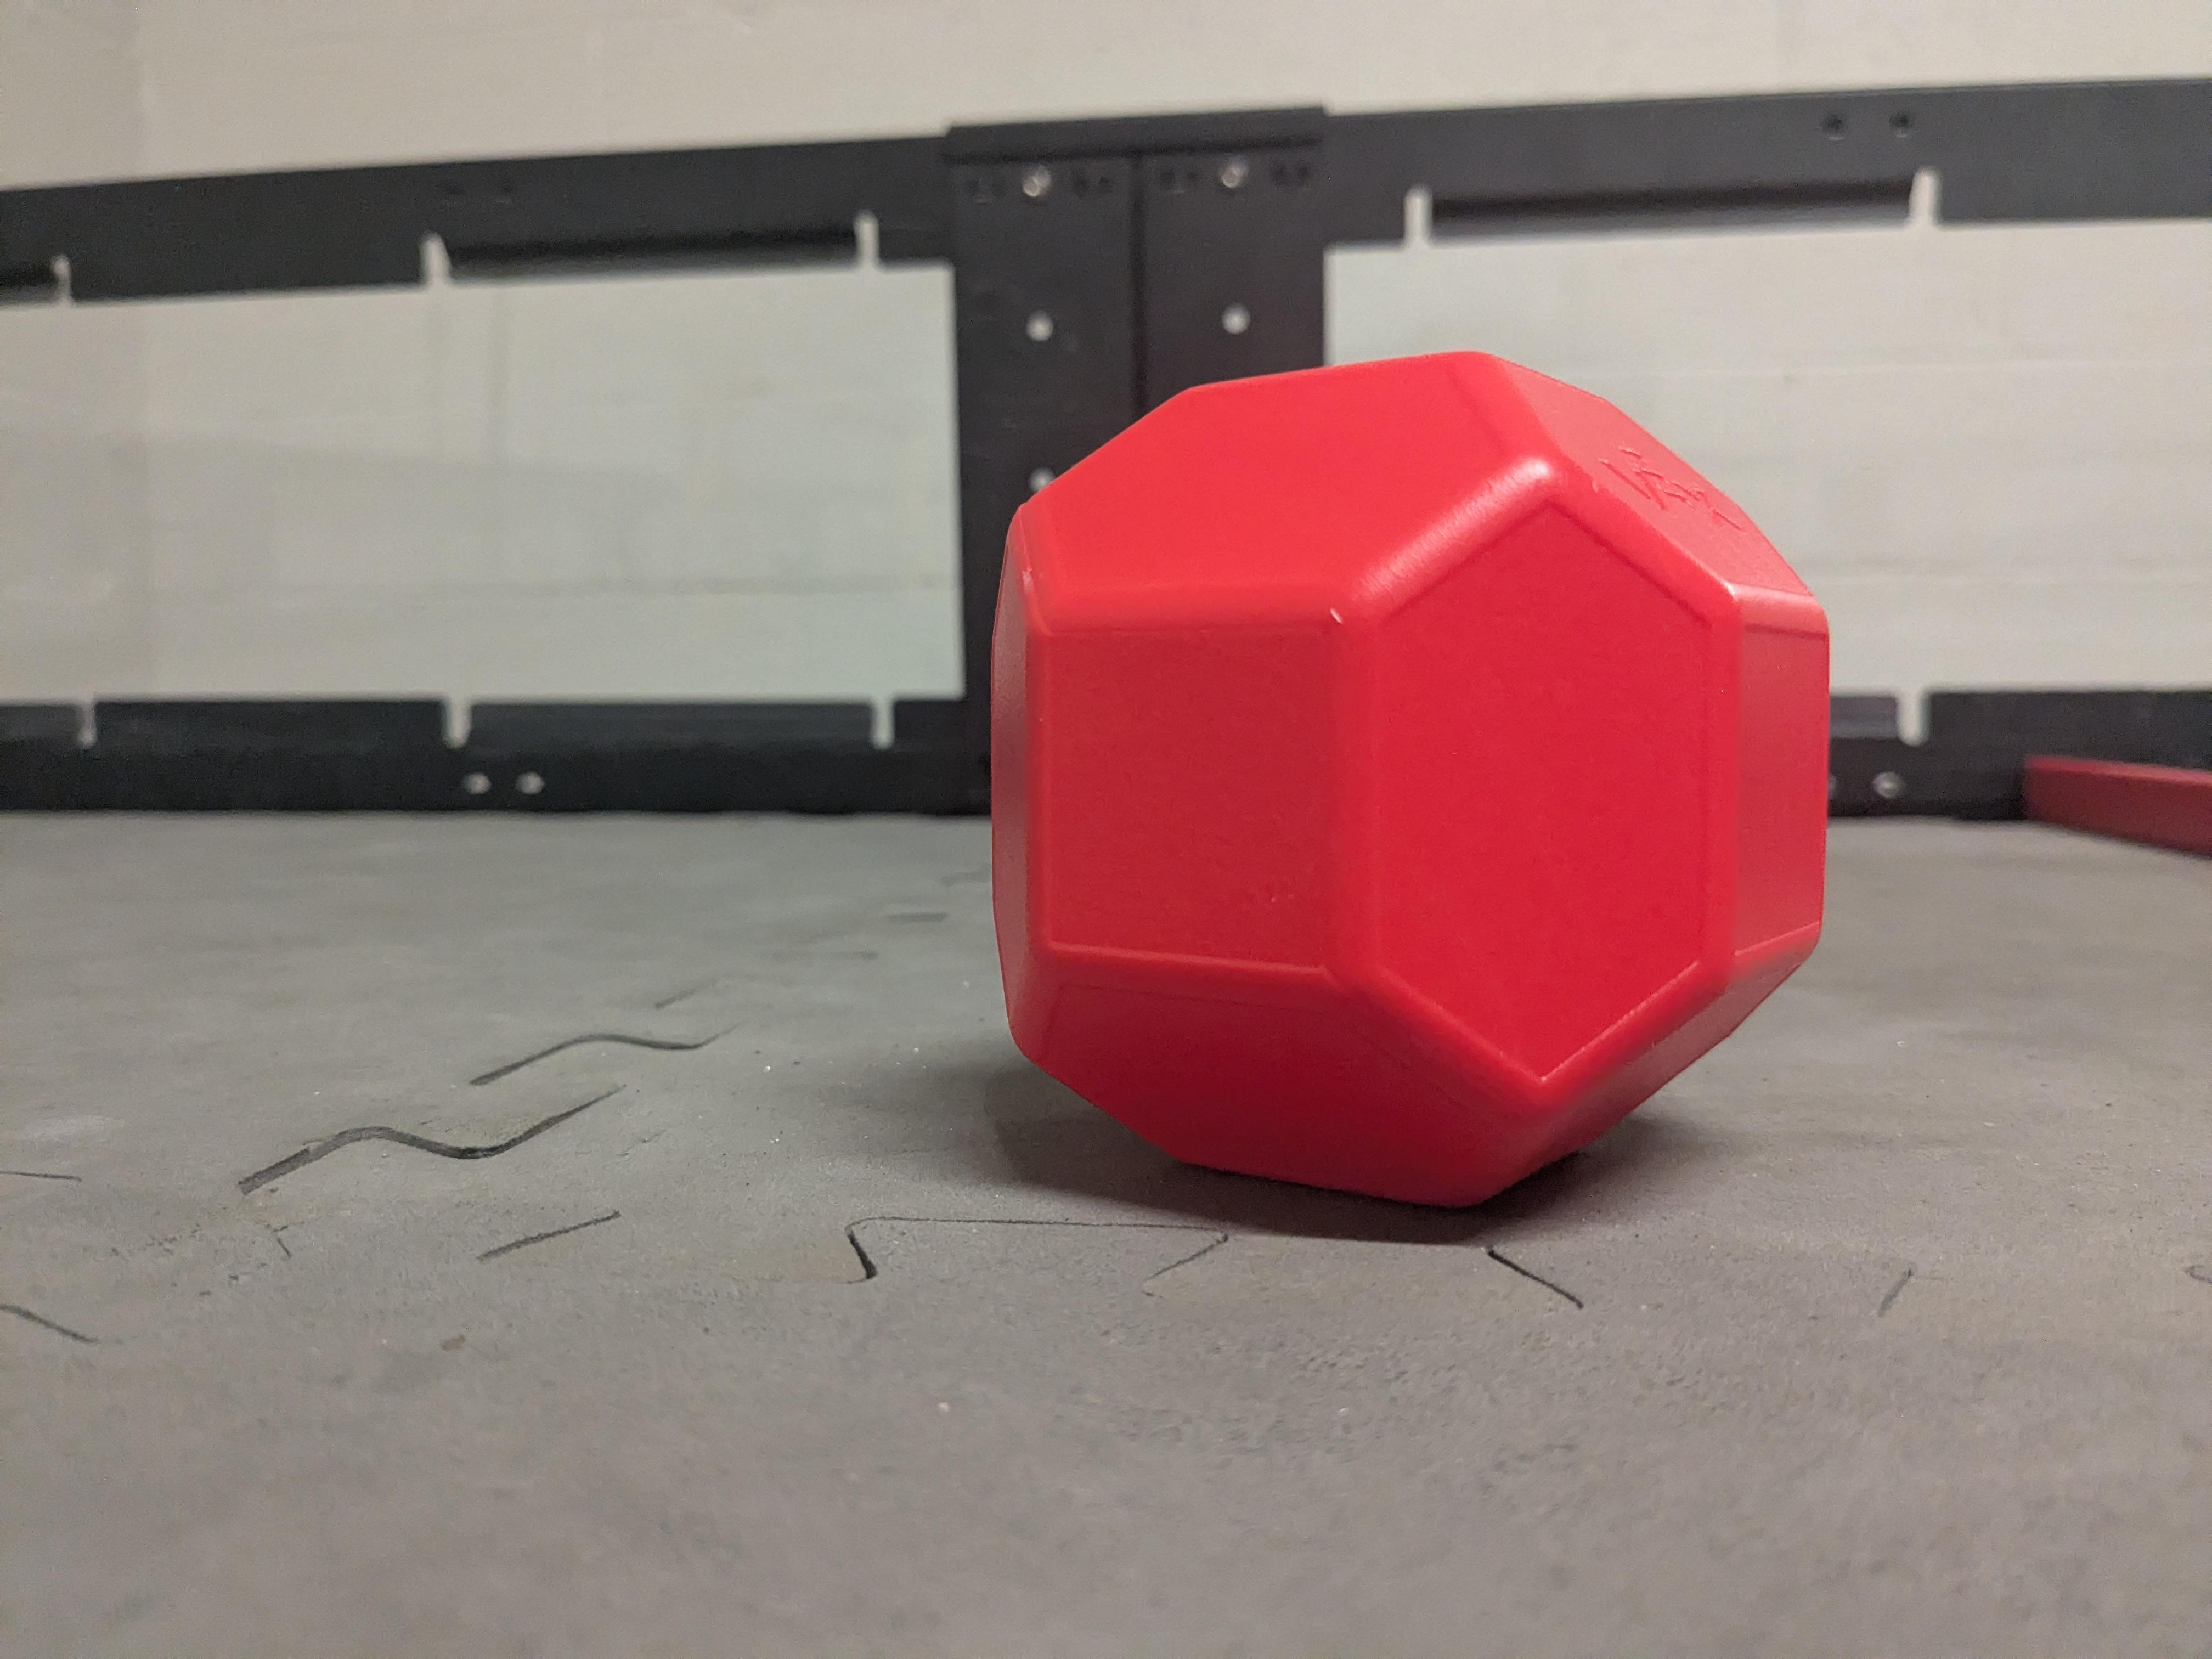Vex-Pieces-RED: (993, 354, 1829, 1204)
